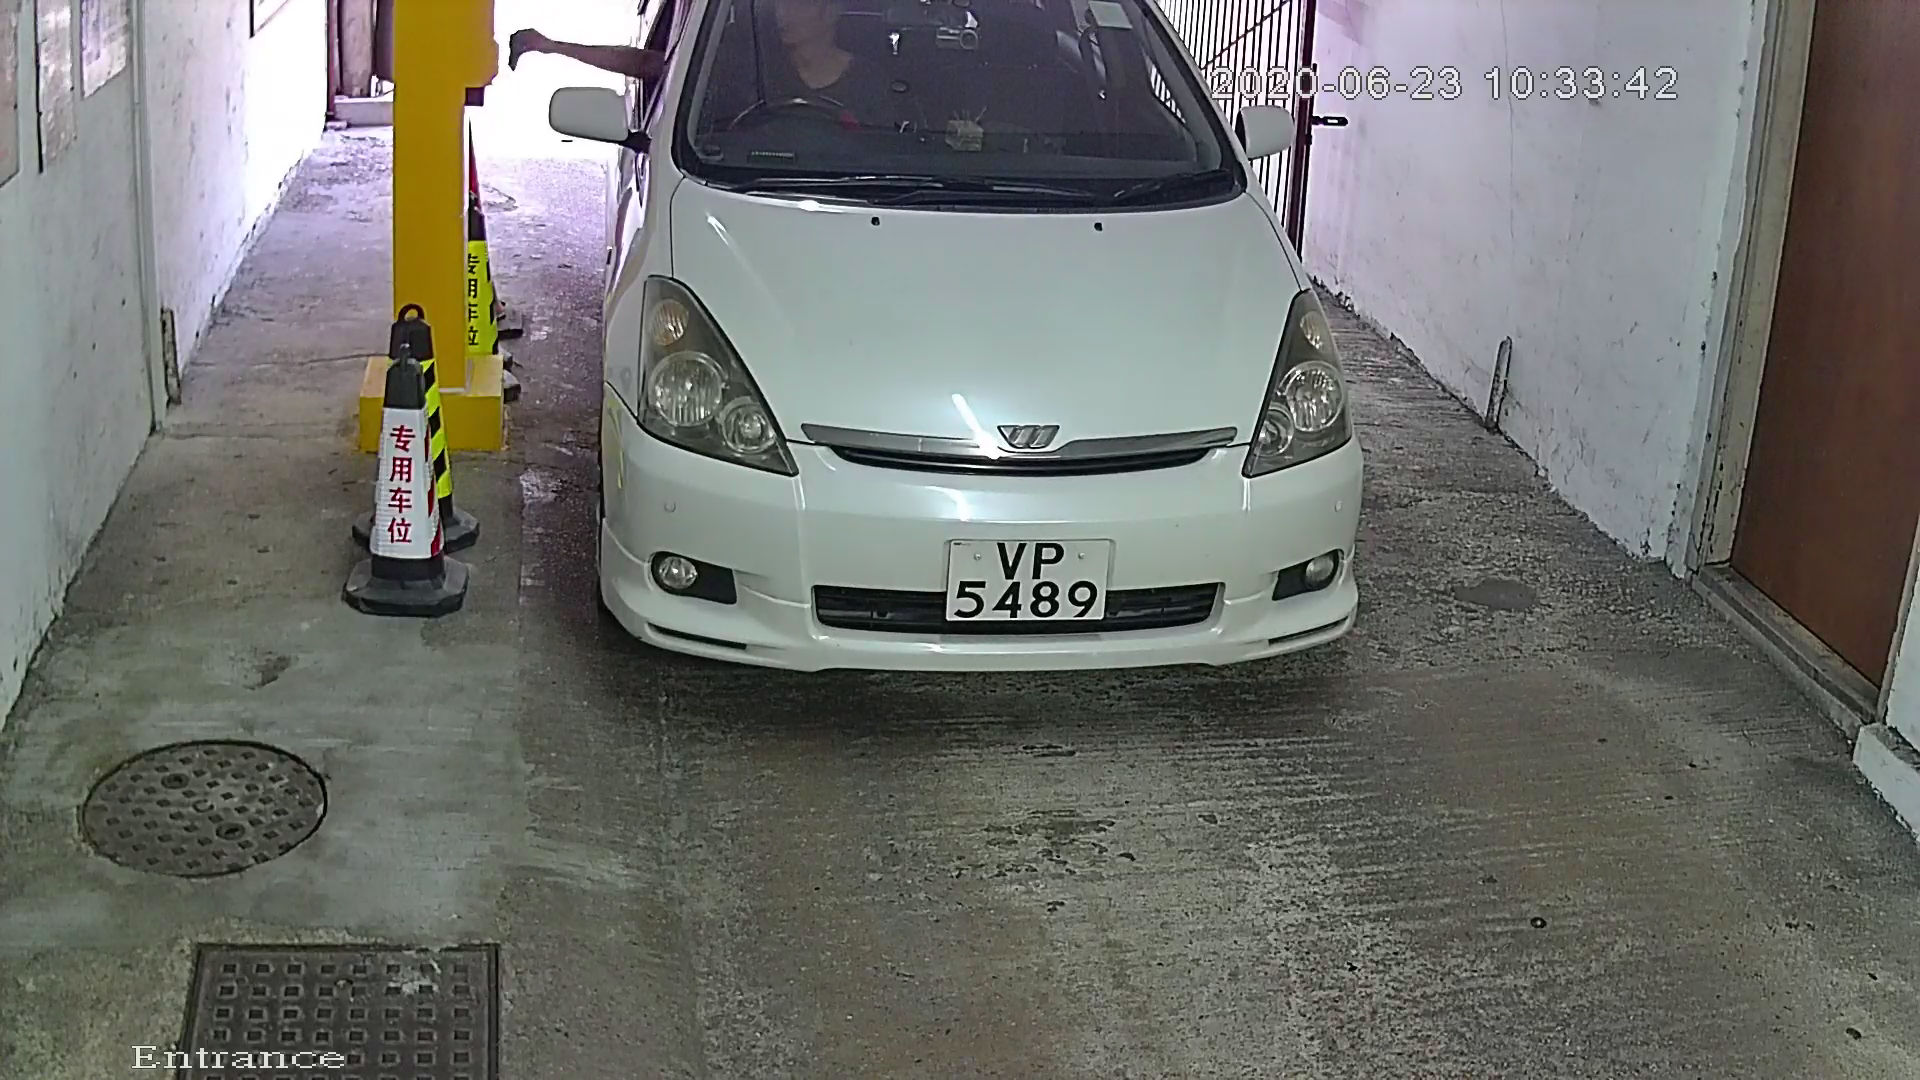privatecar: (549, 3, 1443, 711)
